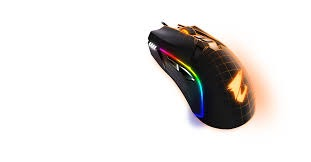mouse: (143, 19, 258, 127)
